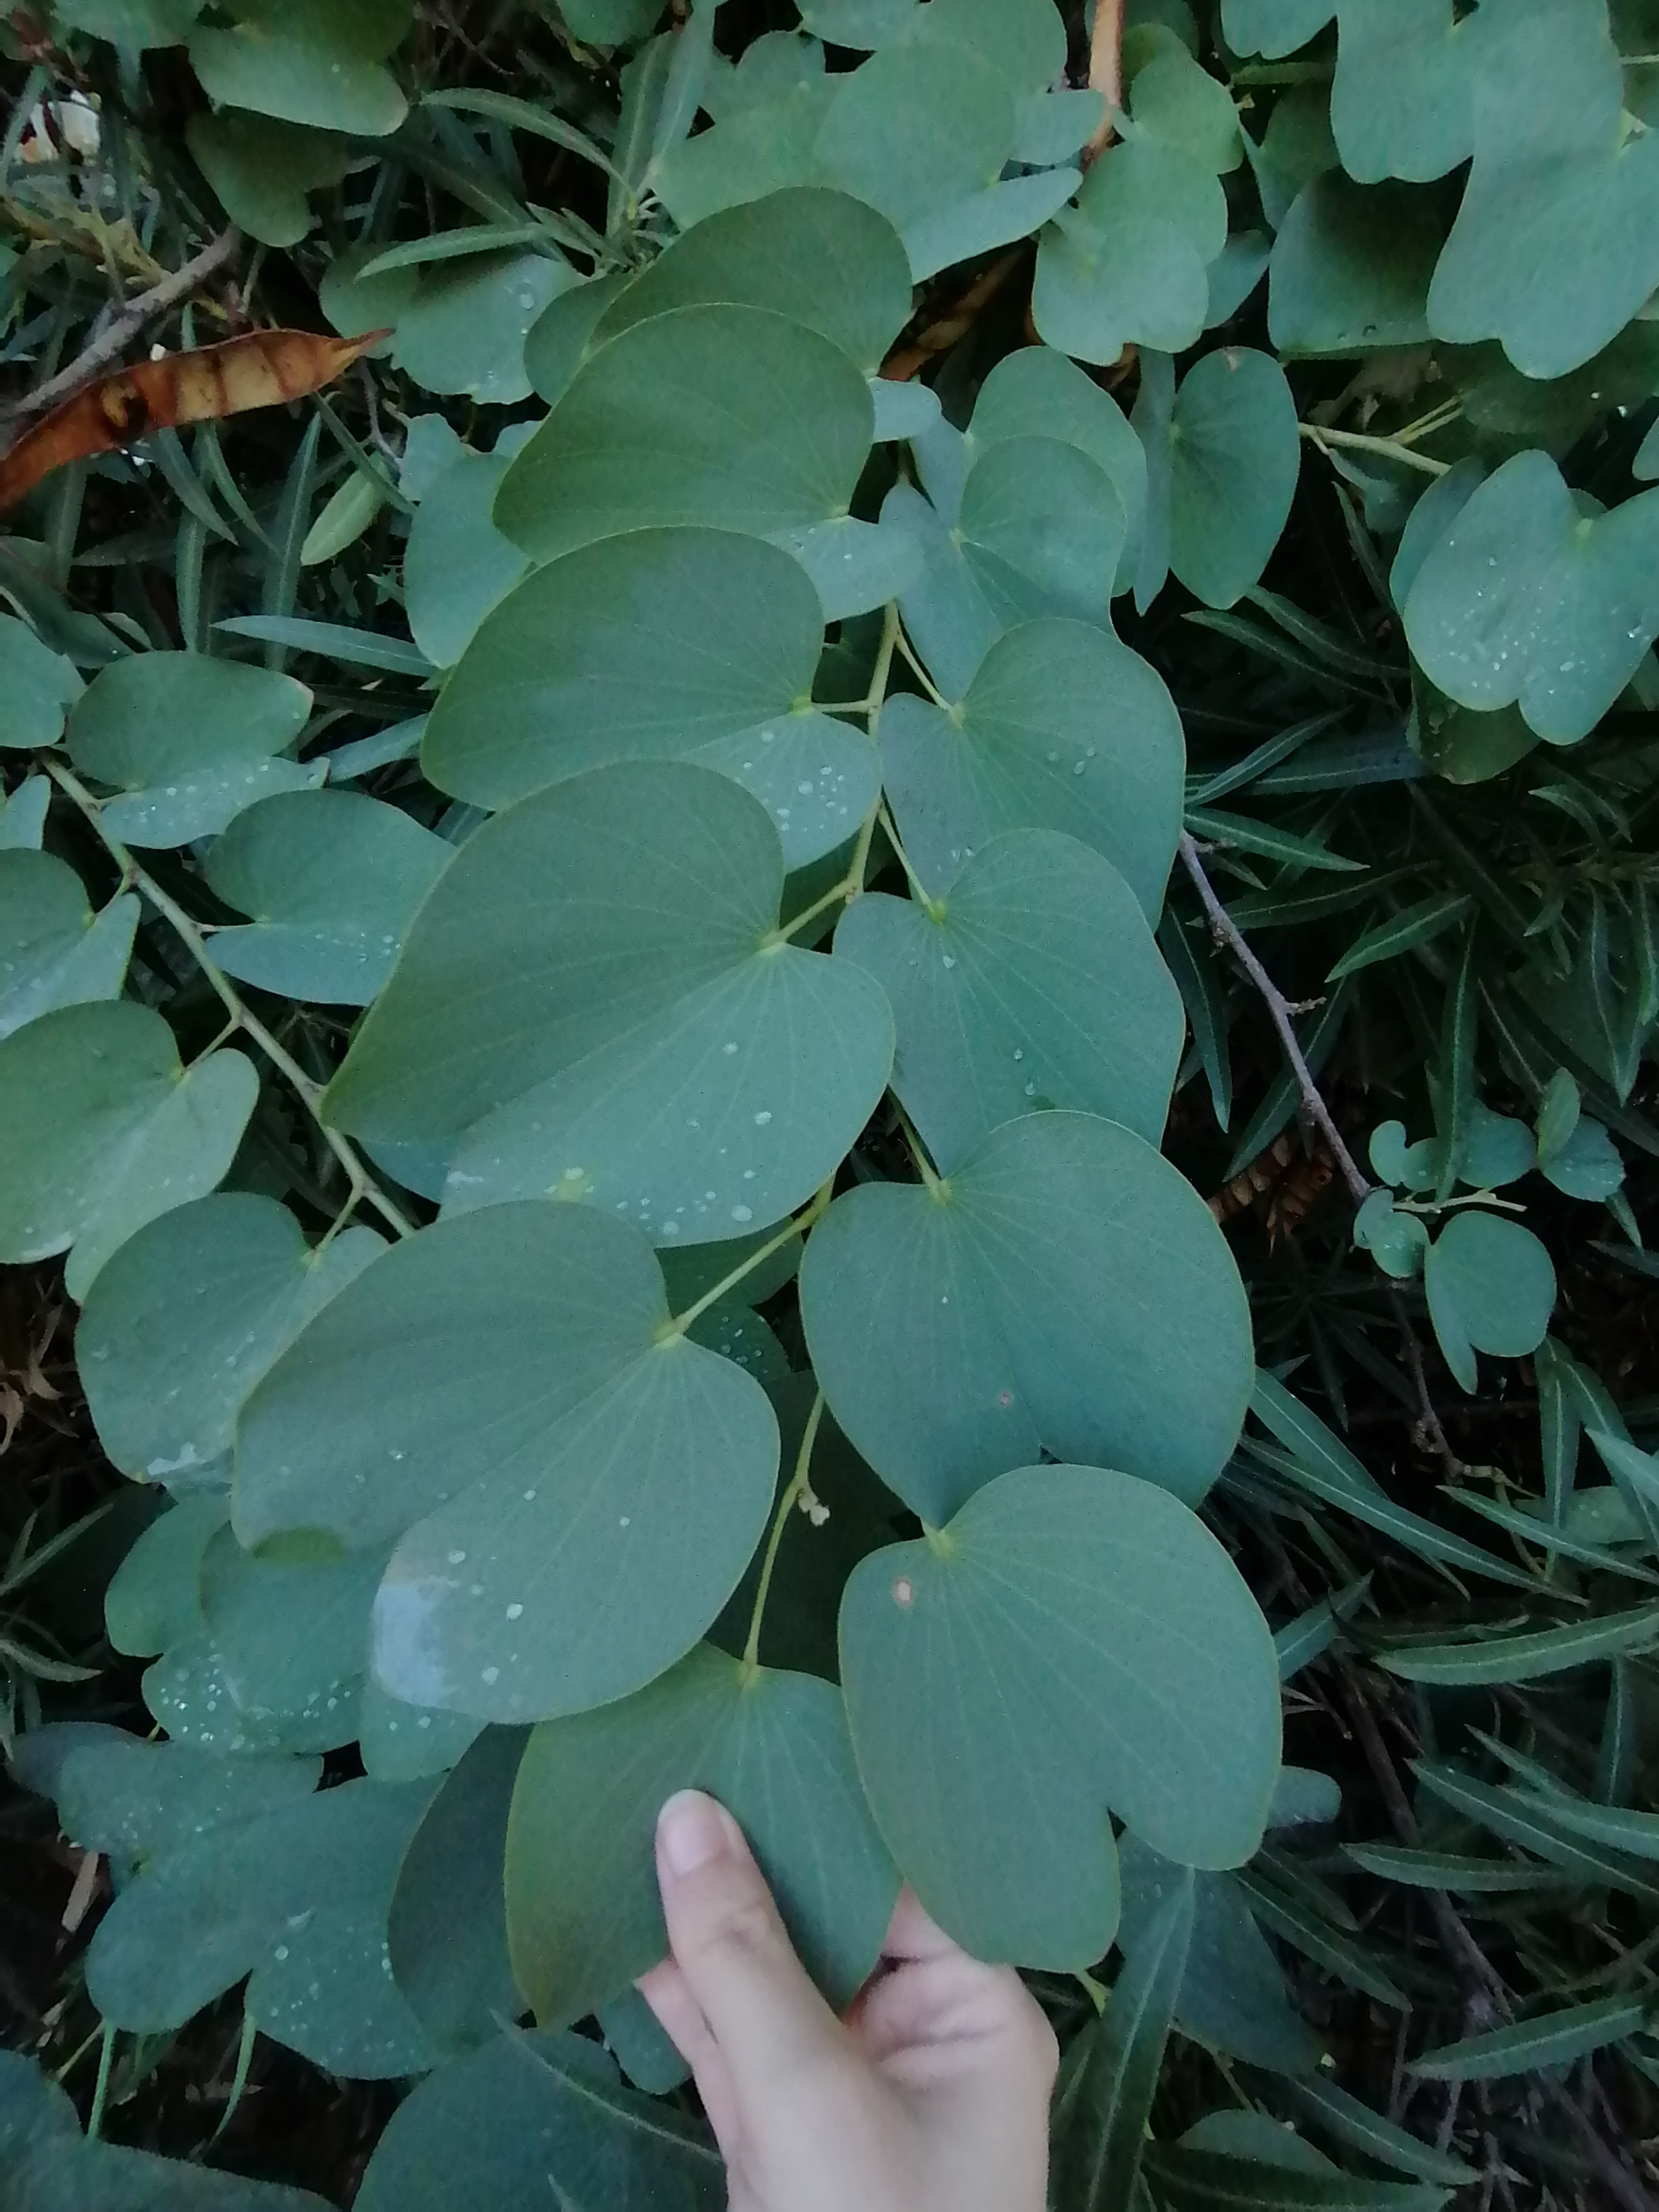healthy: (258, 1160, 821, 1709), (373, 792, 897, 1244), (854, 1458, 1270, 1952), (443, 503, 901, 880), (805, 1125, 1256, 1494), (870, 801, 1162, 1190), (829, 620, 1157, 965), (80, 1190, 437, 1468), (0, 970, 301, 1291), (573, 315, 870, 613), (1436, 415, 1656, 772), (218, 805, 490, 1003), (903, 462, 1138, 690), (92, 643, 328, 846), (1403, 1176, 1546, 1385)
